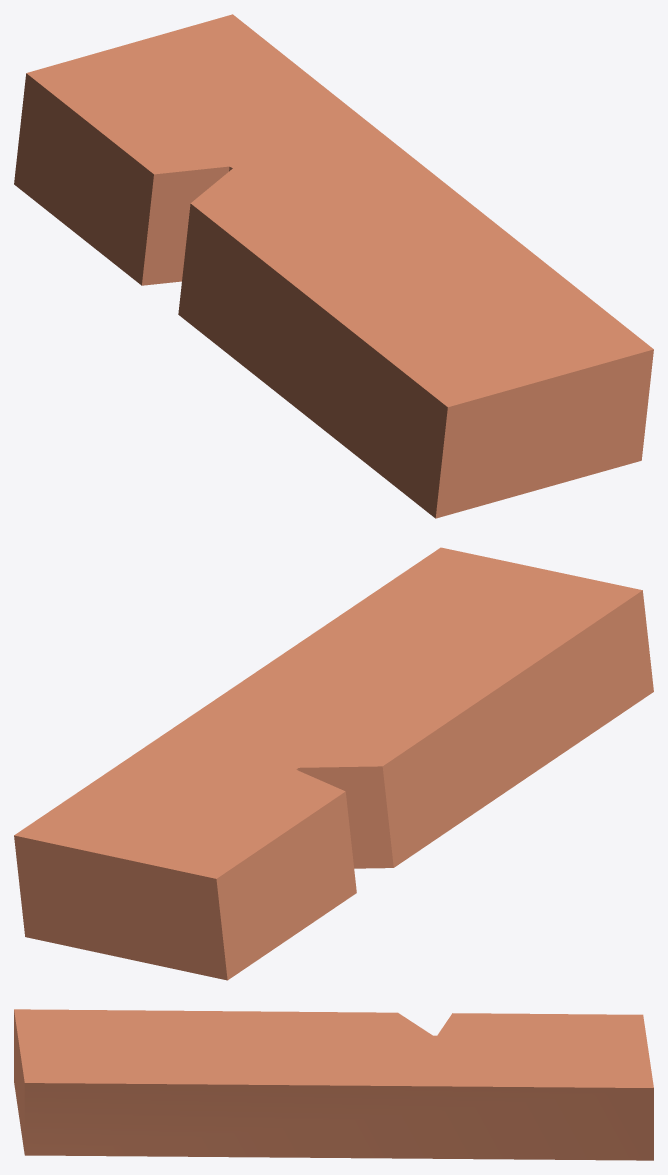
Rendered from 2ndFloorSlabs3.fbx.
3 views of the same model, one above another, from view 1: azimuth 30°, elevation 25°; view 2: azimuth 150°, elevation 25°; view 3: azimuth 270°, elevation 25° (orthographic). The views are drawn at different scales.
Parts seen in each view (by area): view 1: Bridge3.001; view 2: Bridge3.001; view 3: Bridge3.001.
Boxes of the visible parts, x1,y1,x2,y2 form: Bridge3.001: (14, 14, 653, 518); Bridge3.001: (14, 547, 653, 980); Bridge3.001: (14, 1009, 653, 1160).
Bounding box in the file's own units: 475 × 205 × 1491.
